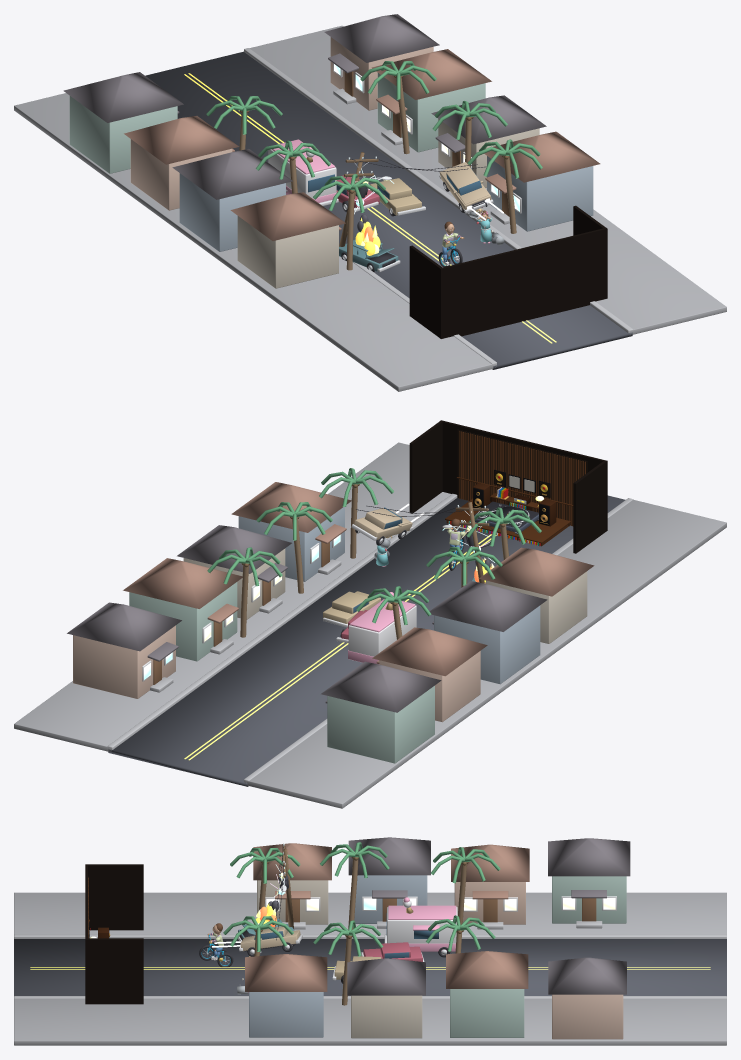
Rendered from yhlqmdlg-world.glb.
3 renders of one model, top to bottom at view 1: azimuth 30°, elevation 25°; view 2: azimuth 150°, elevation 25°; view 3: azimuth 270°, elevation 25°, orthographic. The views are drawn at different scales.
Visible parts, largest first — view 1: StreetEnvironment, TurntableStudioRoom, FlyingCar, BurningCar, SparkingPole, BoyOnBike; view 2: StreetEnvironment, TurntableStudioRoom, FlyingCar, SparkingPole; view 3: StreetEnvironment, TurntableStudioRoom, FlyingCar, SparkingPole, BoyOnBike, BurningCar.
Boxes of the visible parts, box(x1,y1,x2,y2) form: StreetEnvironment: box(14, 14, 726, 391); TurntableStudioRoom: box(409, 205, 607, 338); FlyingCar: box(439, 162, 503, 220); BurningCar: box(339, 214, 400, 272); SparkingPole: box(339, 152, 486, 246); BoyOnBike: box(438, 221, 464, 266); StreetEnvironment: box(14, 442, 726, 808); TurntableStudioRoom: box(409, 420, 607, 553); FlyingCar: box(351, 503, 424, 545); SparkingPole: box(356, 502, 494, 583); StreetEnvironment: box(14, 837, 726, 1045); TurntableStudioRoom: box(85, 864, 143, 1004); FlyingCar: box(212, 926, 302, 956); SparkingPole: box(270, 843, 293, 940); BoyOnBike: box(199, 923, 233, 967); BurningCar: box(236, 900, 294, 941).
Size of the model in its own units: 21.96 by 7.43 by 44.
